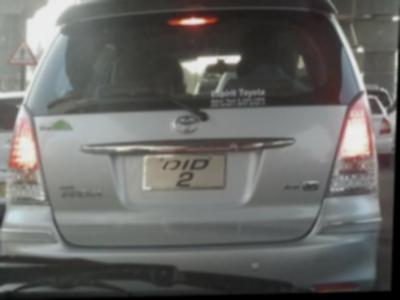License_Plate: (143, 154, 227, 190)
